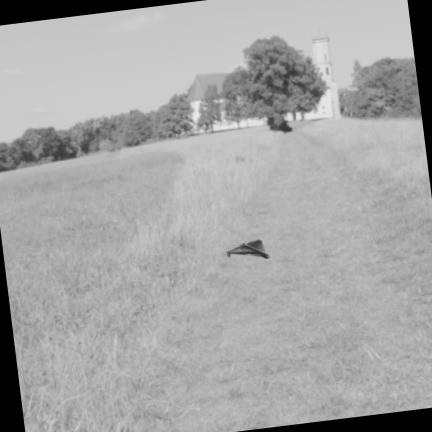Shahed: (227, 239, 269, 257)
